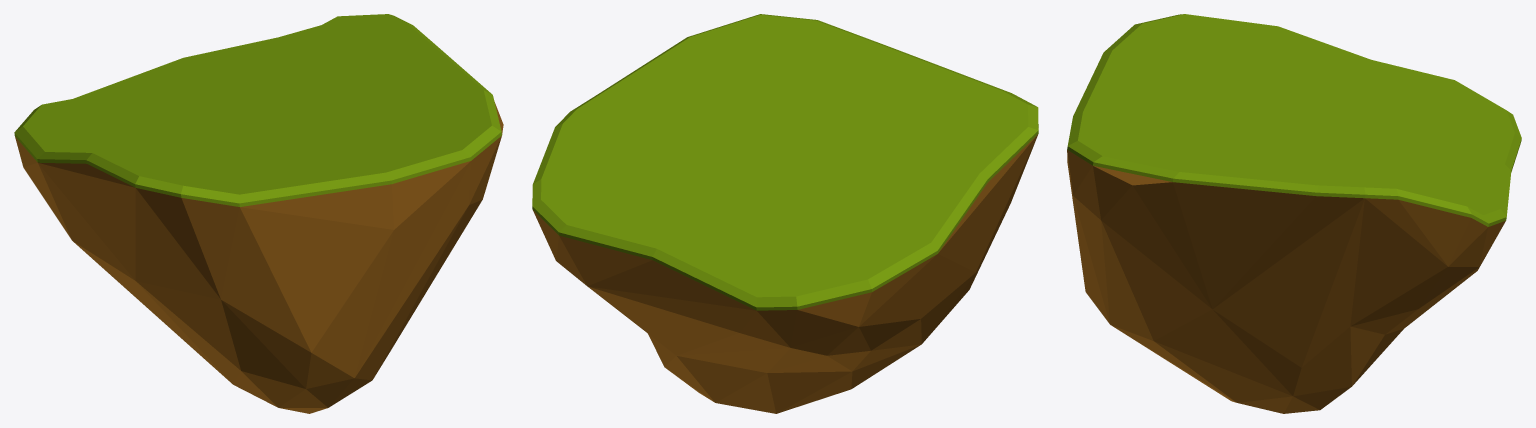
Rendered from FlatShadedIsland3.fbx.
3 renders of one model, left to right at view 1: azimuth 30°, elevation 25°; view 2: azimuth 150°, elevation 25°; view 3: azimuth 270°, elevation 25°, orthographic. The views are drawn at different scales.
Visible parts, largest first — view 1: Cone.003, Cone.004, Cone.005; view 2: Cone.004, Cone.003, Cone.005; view 3: Cone.003, Cone.004, Cone.005.
Boxes of the visible parts, box(x1,y1,x2,y2) form: Cone.003: box(15, 102, 503, 413); Cone.004: box(23, 14, 491, 194); Cone.005: box(14, 14, 501, 206); Cone.004: box(541, 14, 1028, 297); Cone.003: box(533, 134, 1038, 413); Cone.005: box(532, 14, 1038, 310); Cone.003: box(1067, 150, 1505, 413); Cone.004: box(1078, 14, 1514, 214); Cone.005: box(1067, 14, 1521, 226).
Size of the model in its own units: 1834 by 1445 by 1982.
